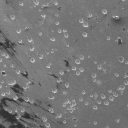corrosion: (64, 100, 77, 112), (117, 55, 125, 64), (27, 35, 34, 44), (1, 52, 9, 59), (81, 31, 88, 38), (51, 87, 58, 94), (49, 35, 56, 42), (46, 62, 53, 69), (108, 95, 115, 102), (101, 9, 109, 15), (16, 27, 22, 35), (28, 46, 36, 52), (117, 85, 125, 91), (74, 59, 81, 65), (90, 72, 97, 78), (44, 122, 51, 128), (113, 72, 120, 78), (48, 108, 55, 114), (1, 70, 7, 77), (10, 14, 16, 20), (54, 20, 60, 26), (30, 57, 36, 63), (78, 17, 84, 23), (92, 105, 98, 111), (12, 95, 18, 101), (59, 70, 65, 76), (100, 94, 106, 100), (40, 13, 46, 19), (33, 1, 40, 6), (96, 65, 103, 70), (53, 1, 59, 6), (15, 69, 20, 75), (75, 71, 81, 76), (80, 90, 86, 95), (105, 36, 111, 41), (65, 82, 70, 88), (19, 2, 24, 7), (57, 29, 62, 34), (64, 34, 69, 38)
